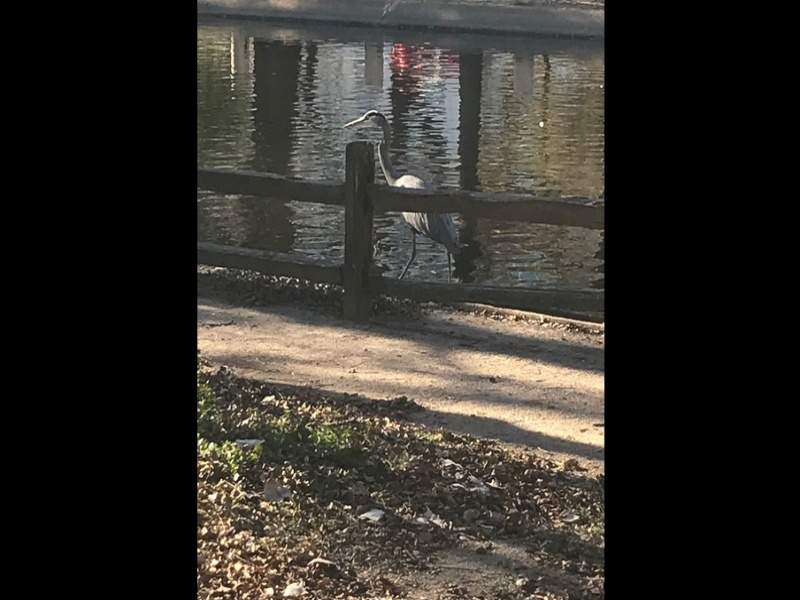heron: (345, 110, 462, 283)
